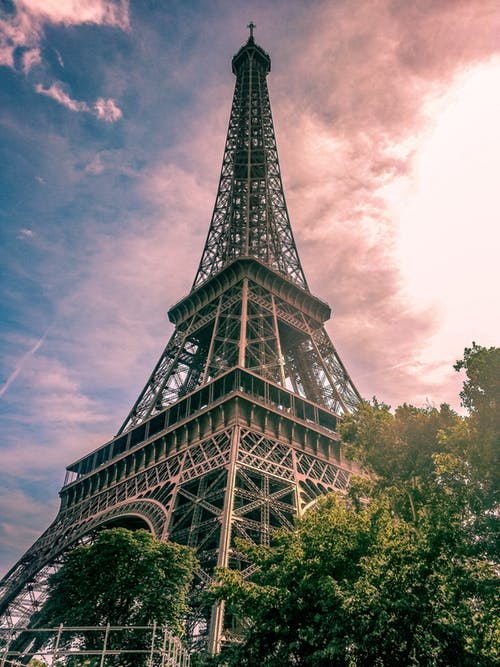eiffel tower: (58, 10, 416, 615)
